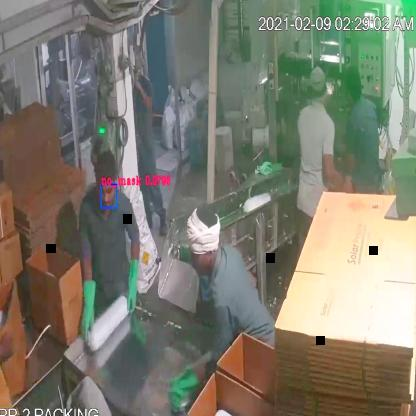glove: (163, 361, 209, 416), (68, 264, 100, 343), (124, 248, 140, 320)
no_glove: (0, 319, 26, 367), (126, 69, 152, 113), (324, 150, 348, 188)
